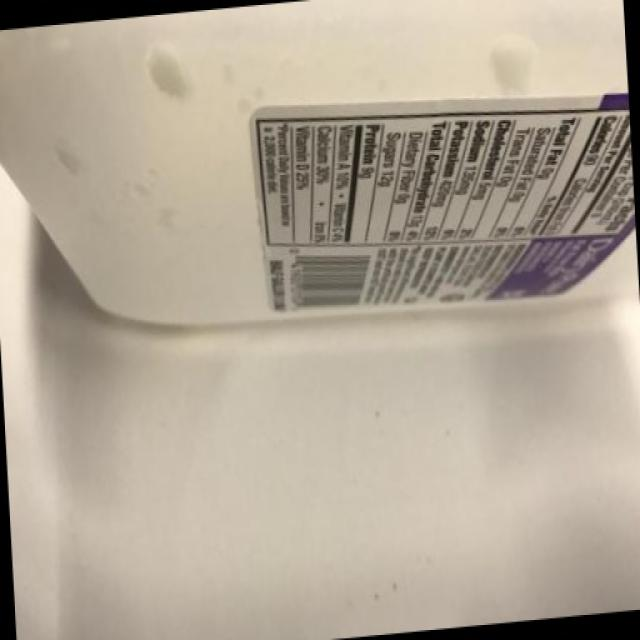plastico: (0, 14, 640, 434)
